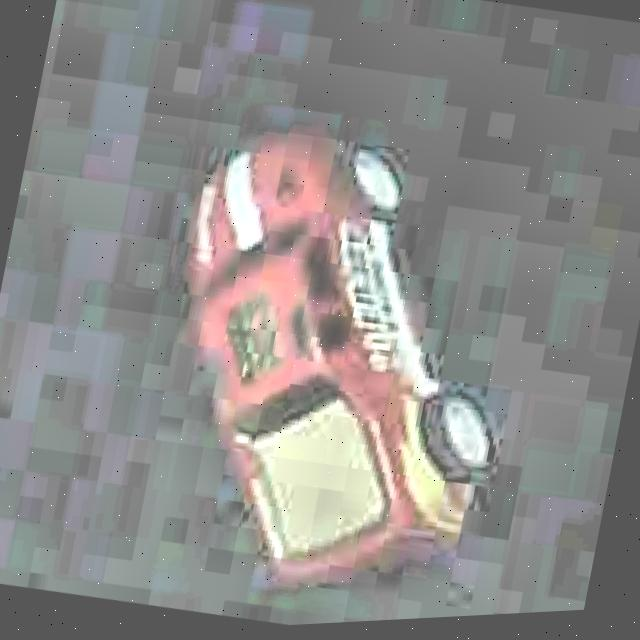car: (107, 90, 557, 633)
